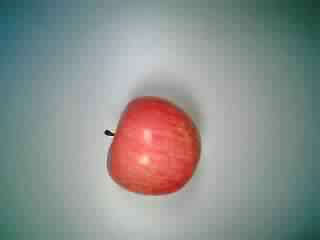apple: (100, 96, 206, 195)
